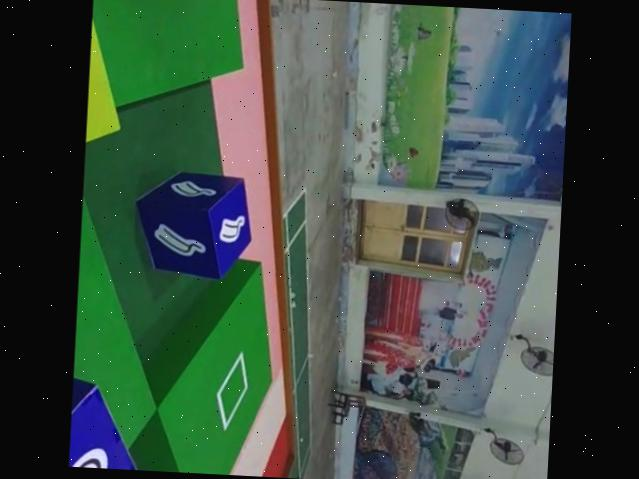R2 Real Blue: (131, 168, 254, 281), (68, 374, 143, 470)
